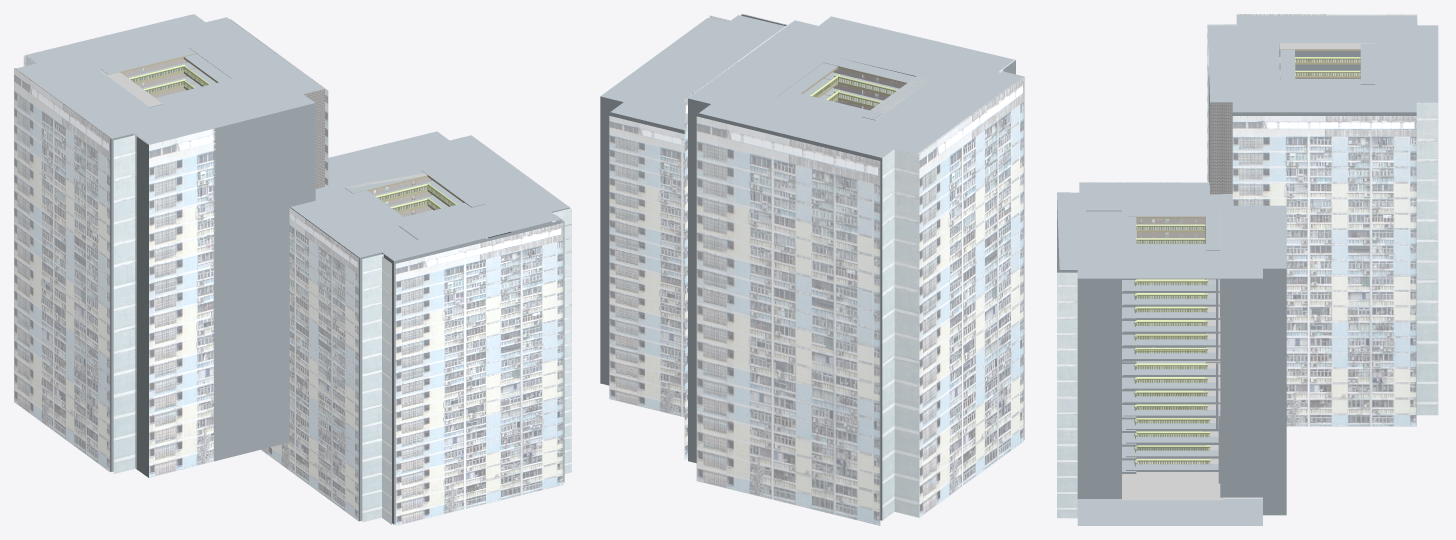
The model's file is TwinTowerFinal-optimized.glb.
The picture shows the model from 3 angles, left to right: view 1: azimuth 30°, elevation 25°; view 2: azimuth 150°, elevation 25°; view 3: azimuth 270°, elevation 25°; orthographic projection. The views are drawn at different scales.
Visible parts, largest first — view 1: Assembly-37, Geom3D_ (×6), Geom3D (×4); view 2: Assembly-37, Geom3D_ (×6), Geom3D (×3); view 3: Geom3D_ (×16), Assembly-37, Geom3D (×13).
Part boxes in pixels (left/top/right/bottom): Assembly-37: left=14, top=14, right=571, bottom=525; Geom3D_ (×6): left=16, top=14, right=569, bottom=524; Geom3D (×4): left=122, top=58, right=560, bottom=260; Assembly-37: left=609, top=14, right=1024, bottom=525; Geom3D_ (×6): left=600, top=14, right=1022, bottom=520; Geom3D (×3): left=728, top=15, right=904, bottom=110; Geom3D_ (×16): left=1057, top=15, right=1438, bottom=525; Assembly-37: left=1057, top=14, right=1438, bottom=518; Geom3D (×13): left=1057, top=57, right=1360, bottom=498.
Bounding box in the file's own units: 34.95 × 32.27 × 33.37.
1255 materials, 1252 textured.
